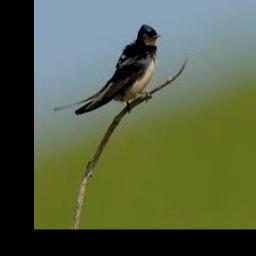Swallow: (54, 25, 160, 116)
